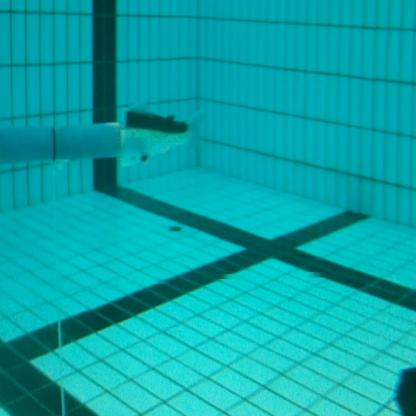tail: (119, 95, 207, 173)
